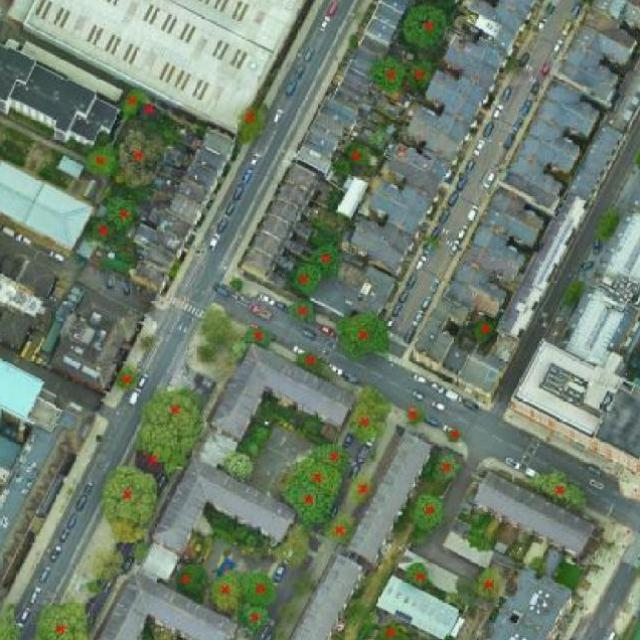tree: (127, 381, 203, 474), (97, 463, 163, 528), (327, 305, 397, 362), (274, 481, 345, 536), (341, 382, 395, 450), (115, 126, 170, 192), (523, 466, 595, 513), (30, 593, 95, 640), (228, 98, 277, 149), (401, 1, 449, 52), (288, 456, 351, 494), (206, 568, 253, 618), (99, 188, 145, 238), (406, 488, 453, 536), (192, 302, 236, 350), (100, 235, 146, 279), (471, 560, 511, 610), (172, 554, 212, 604), (305, 438, 359, 475), (422, 447, 468, 490), (79, 214, 124, 256), (321, 509, 362, 552), (78, 143, 120, 184), (307, 237, 343, 284), (102, 516, 151, 550), (394, 398, 432, 441), (113, 83, 152, 124), (242, 564, 283, 602), (0, 593, 31, 640), (292, 348, 335, 381), (238, 599, 276, 636), (404, 57, 438, 98), (287, 260, 322, 298), (402, 560, 441, 594), (591, 204, 625, 242), (218, 452, 256, 486), (283, 294, 318, 326), (467, 312, 499, 346), (348, 474, 380, 508), (111, 367, 142, 398), (558, 277, 588, 309), (242, 323, 276, 351), (371, 617, 412, 640), (378, 56, 404, 92), (439, 422, 467, 450), (345, 141, 374, 168), (133, 328, 160, 355), (297, 414, 326, 438)
